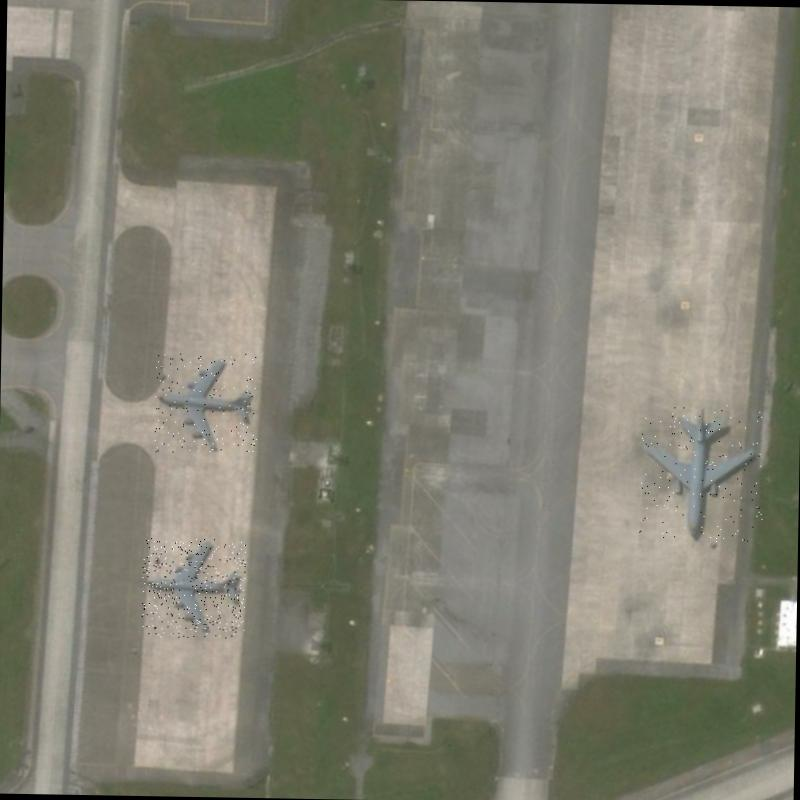A14: (154, 352, 258, 454), (140, 538, 246, 638)
A18: (639, 404, 765, 543)
